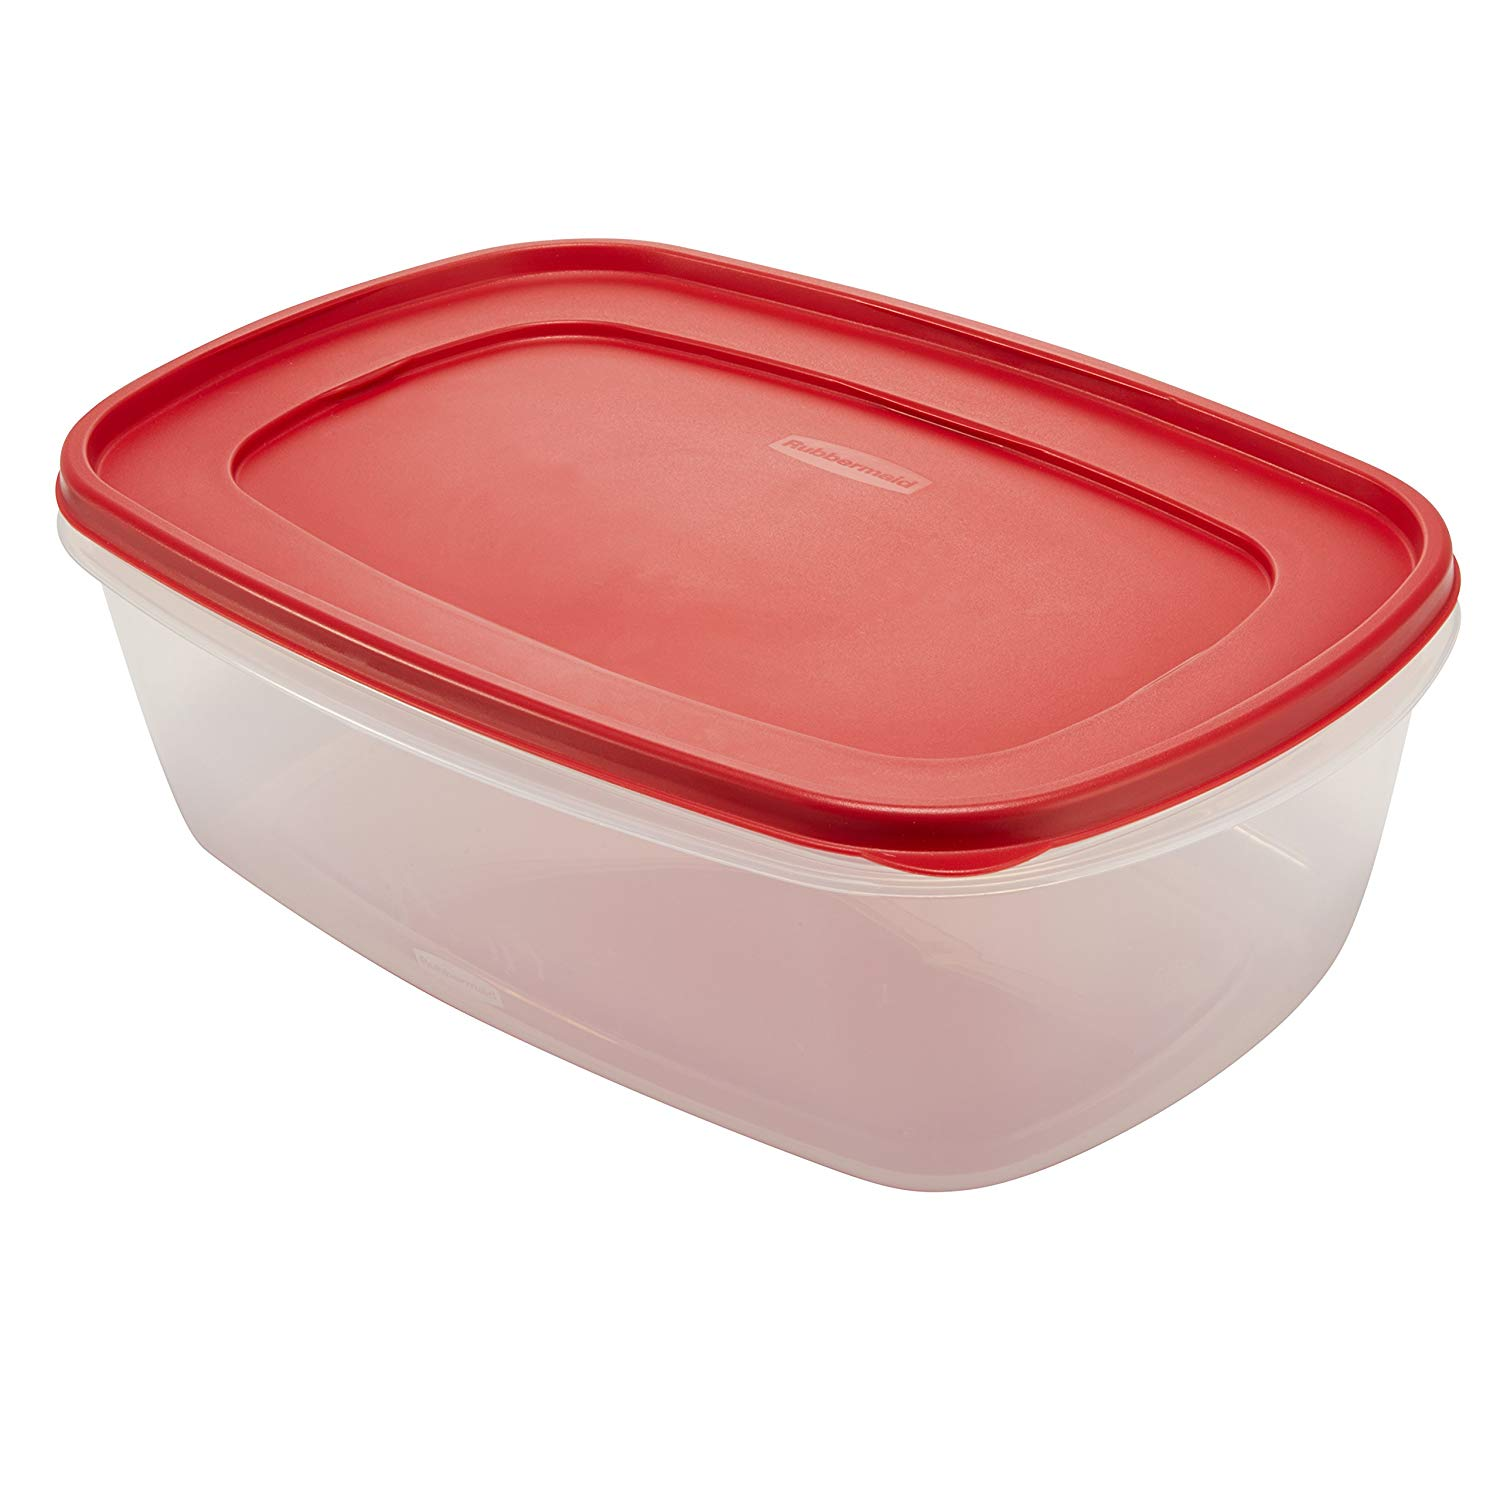Rec_Plastic: (26, 132, 1455, 1209)
